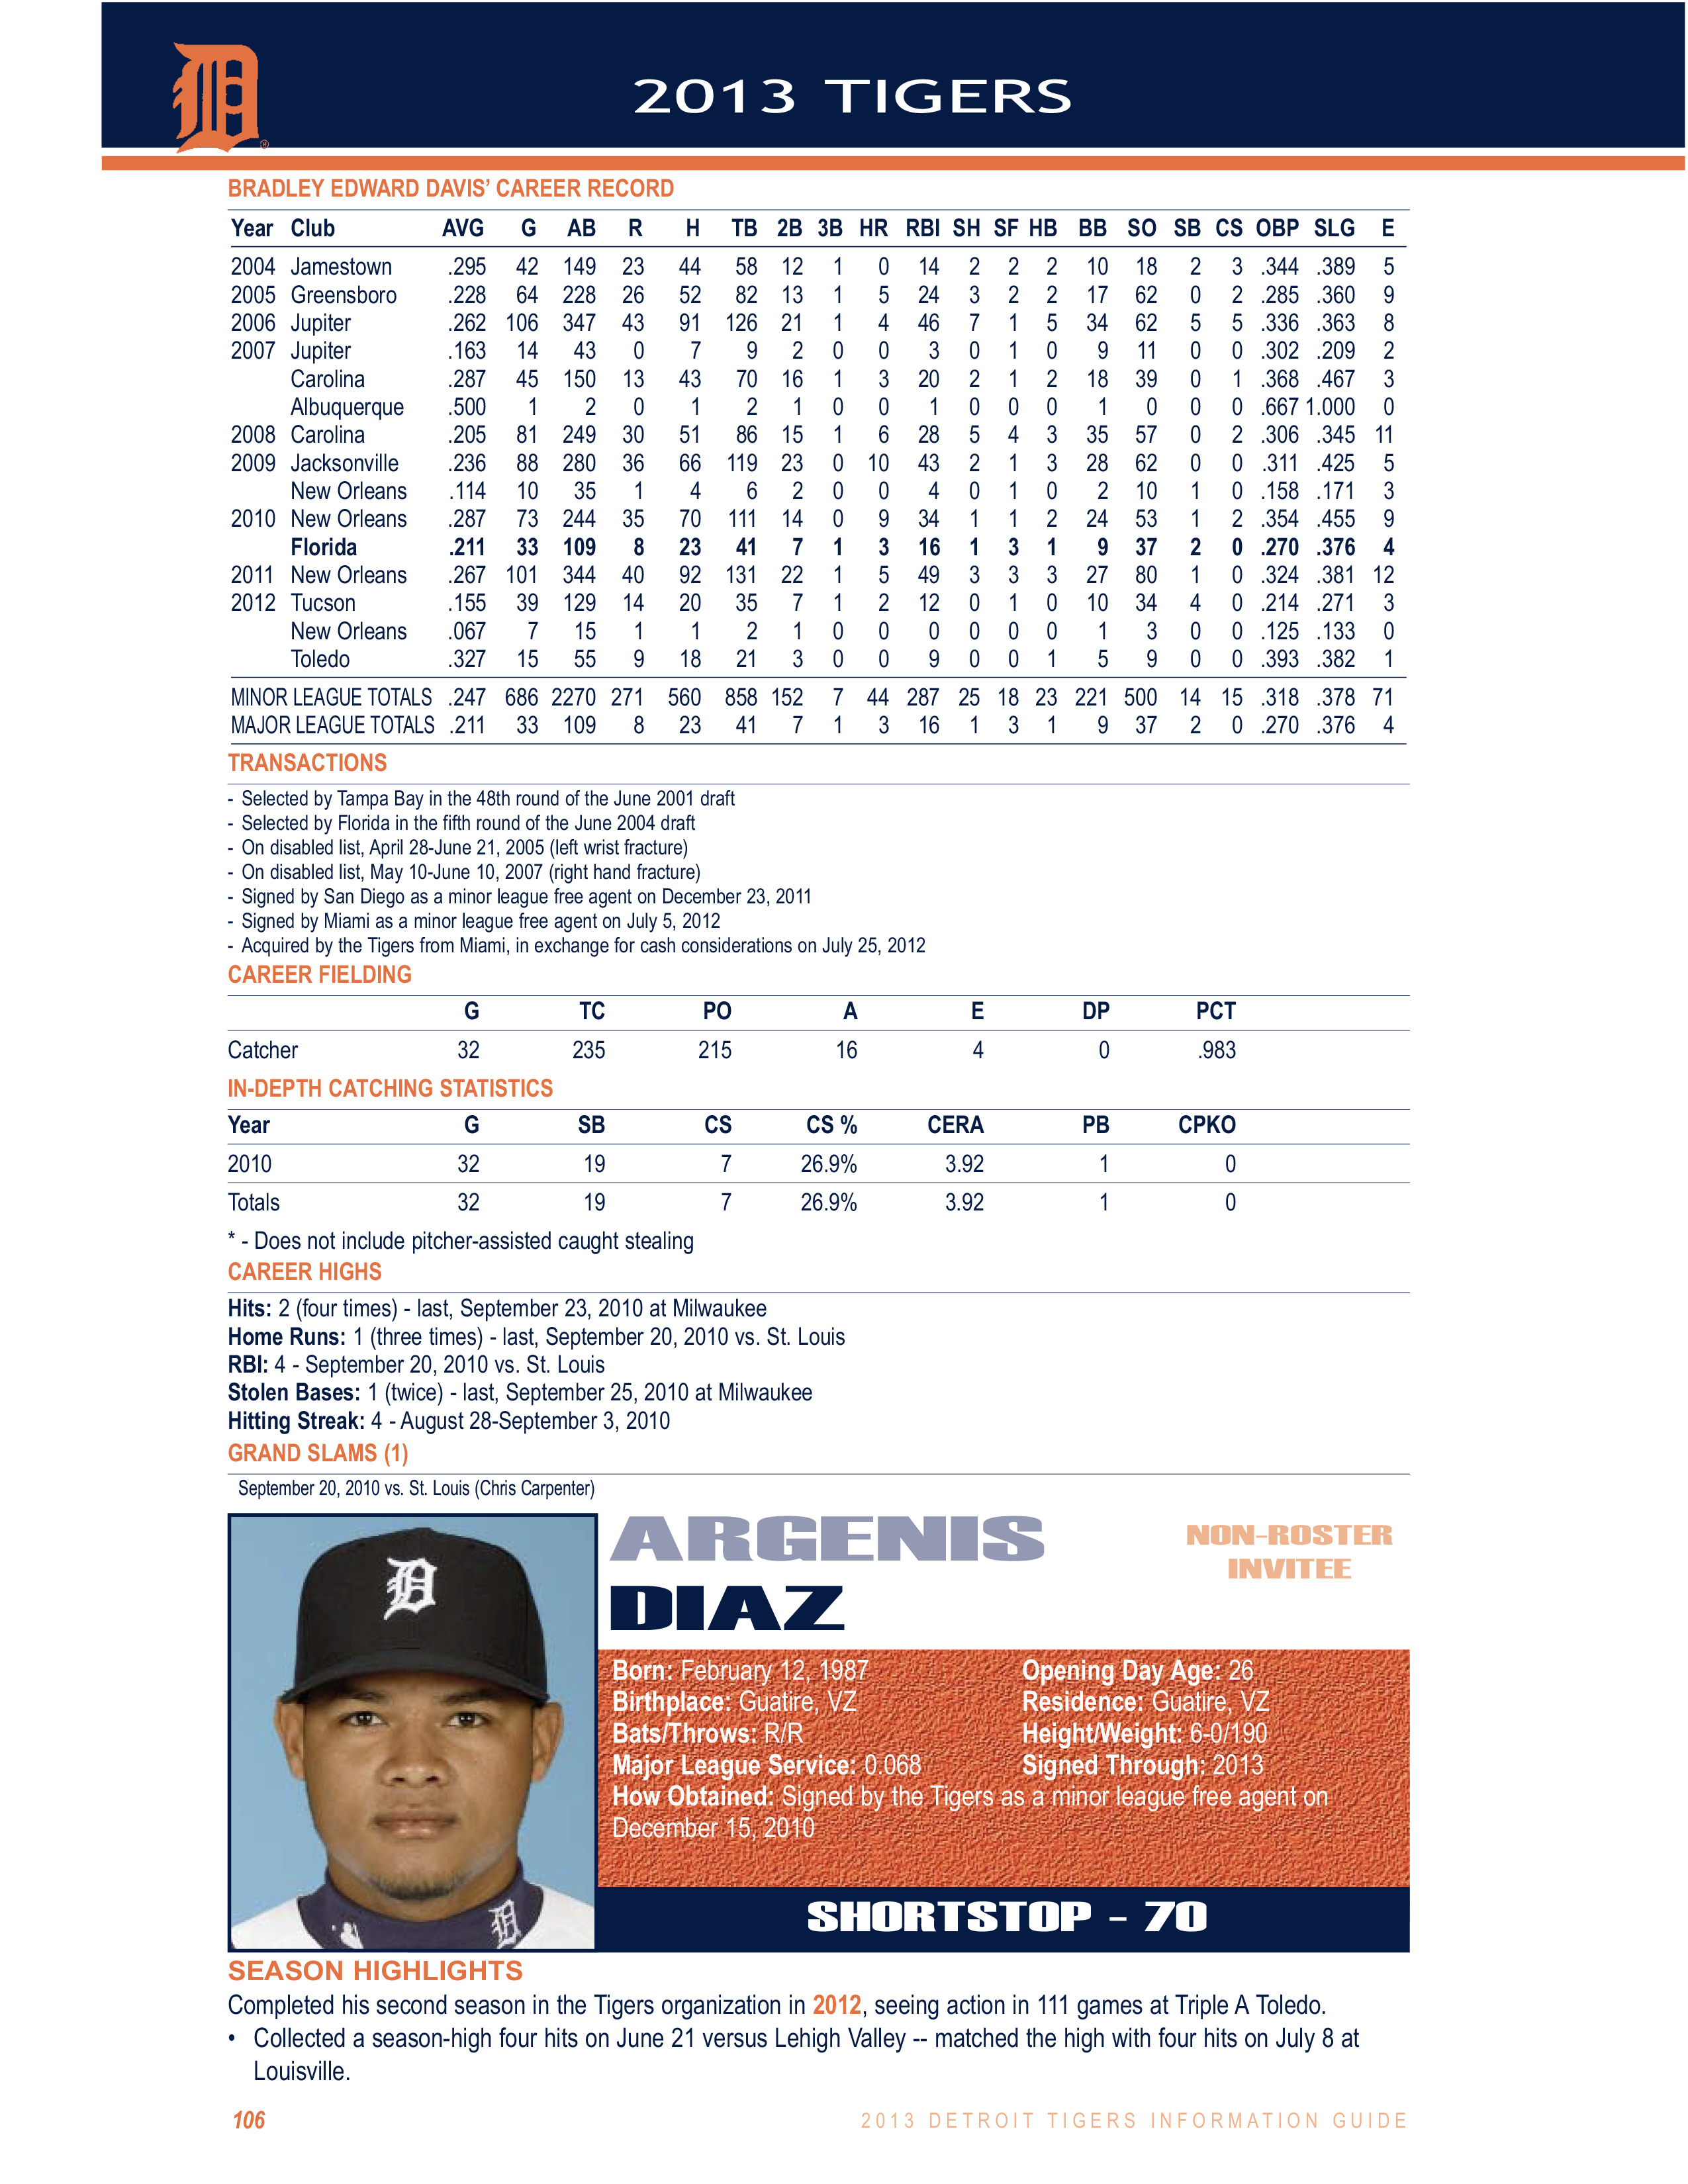caption: (617, 1521, 1073, 1649)
figure: (220, 1516, 596, 1954)
list: (610, 1654, 1335, 1844), (223, 796, 933, 959)
section: (223, 167, 690, 213), (789, 1893, 1209, 1934), (206, 1954, 539, 2003), (213, 1065, 583, 1108), (206, 952, 417, 998), (213, 1434, 449, 1471), (206, 1252, 399, 1292), (227, 750, 399, 789)
table: (231, 213, 1399, 739), (209, 1111, 1408, 1218), (216, 989, 1426, 1069)
text: (213, 1998, 1379, 2097), (216, 1298, 849, 1441), (1183, 1512, 1422, 1592), (206, 1225, 706, 1252), (220, 1475, 606, 1509)
